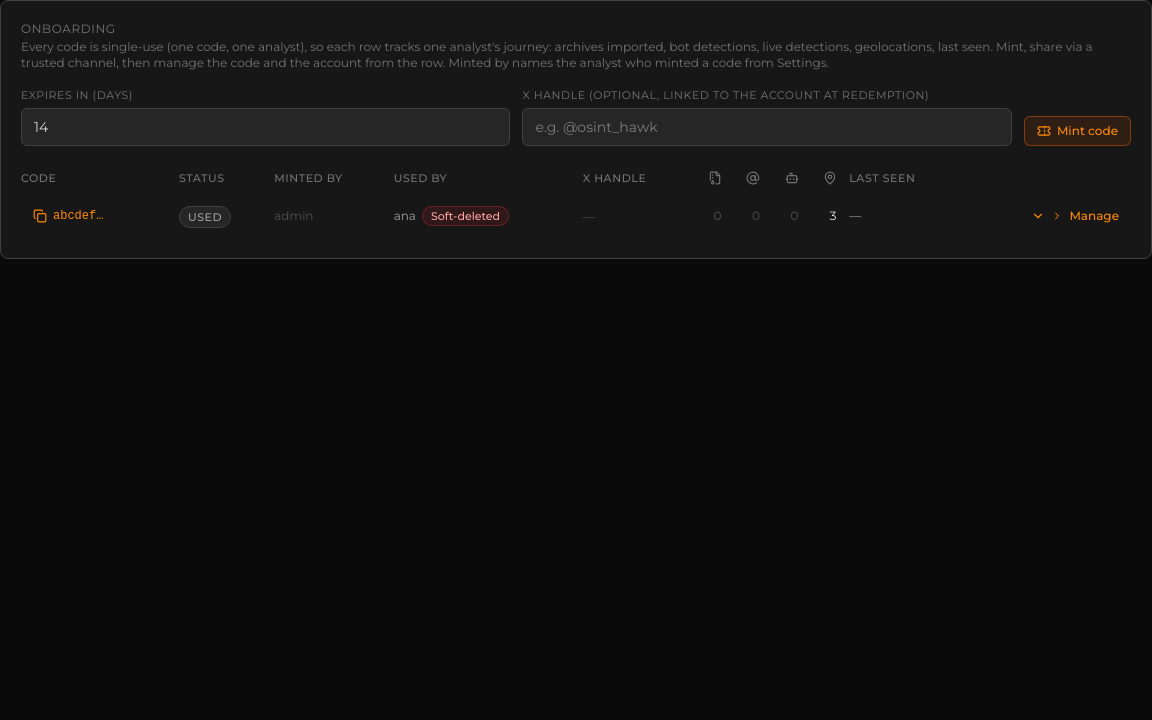
it: <OnboardingPanel> › restores a soft-deleted account from the confirm dialog
Click the button "Manage": x=1075, y=216 [1019,202,1131,230]
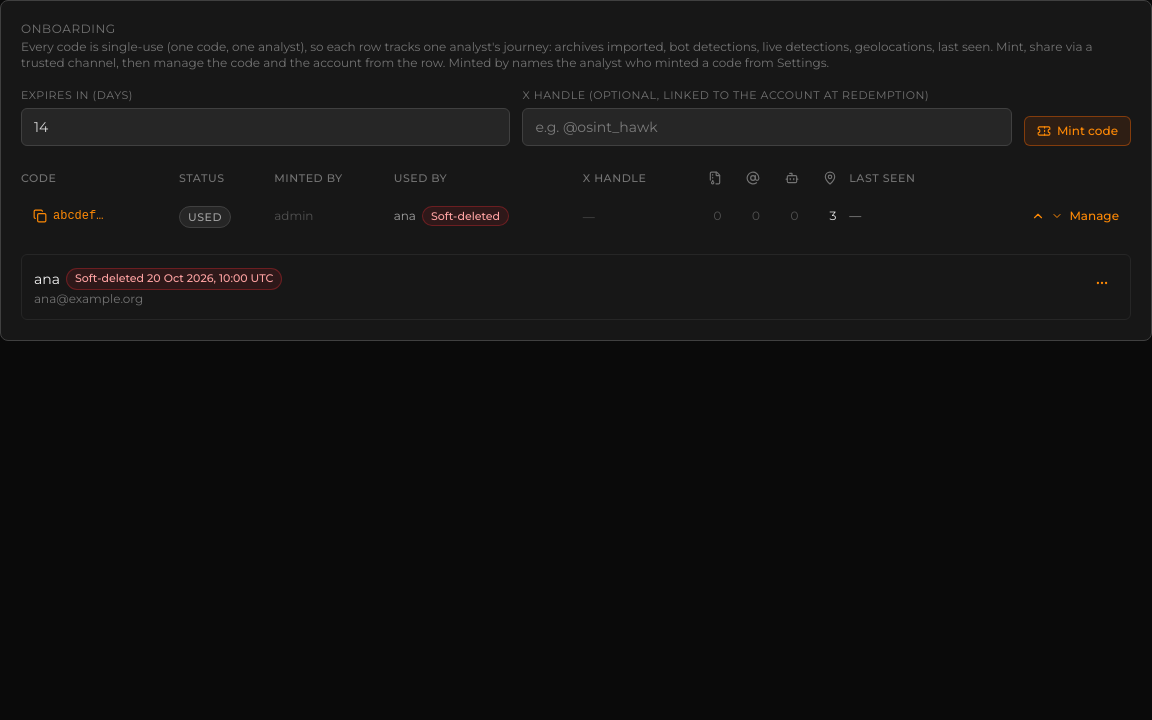
Click the button named "Actions for ana": x=1102, y=283 [1086,267,1118,299]
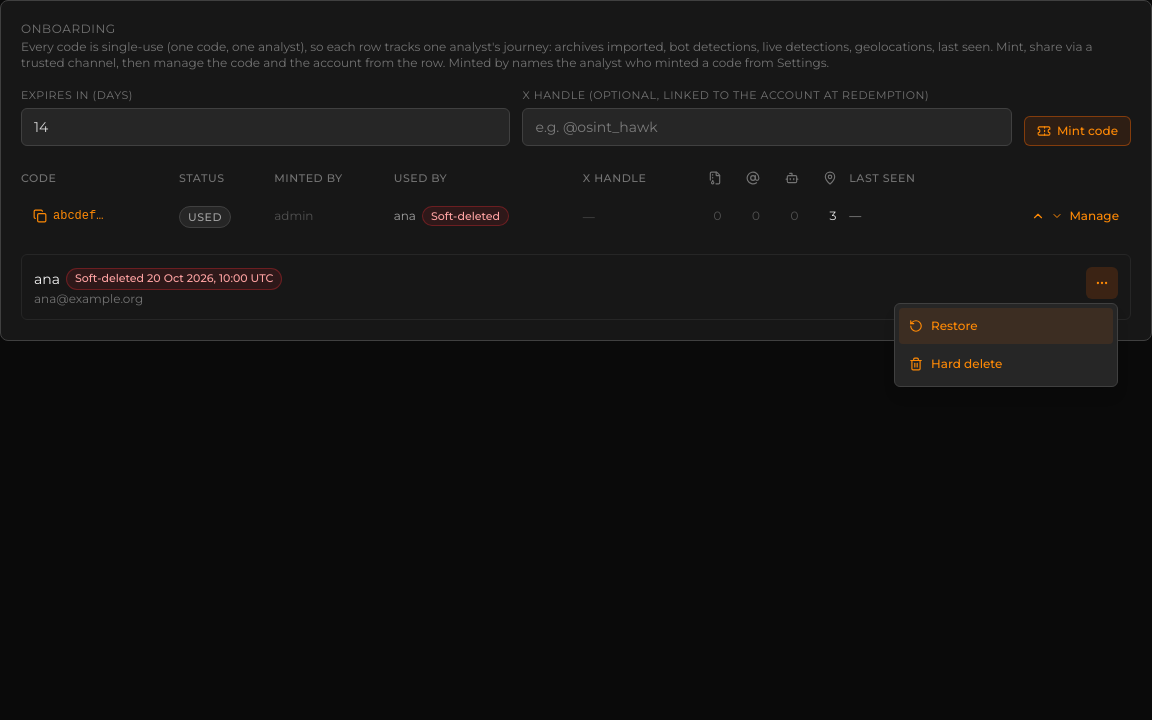
Click the menu item "Restore": x=1006, y=326 [899,308,1113,344]
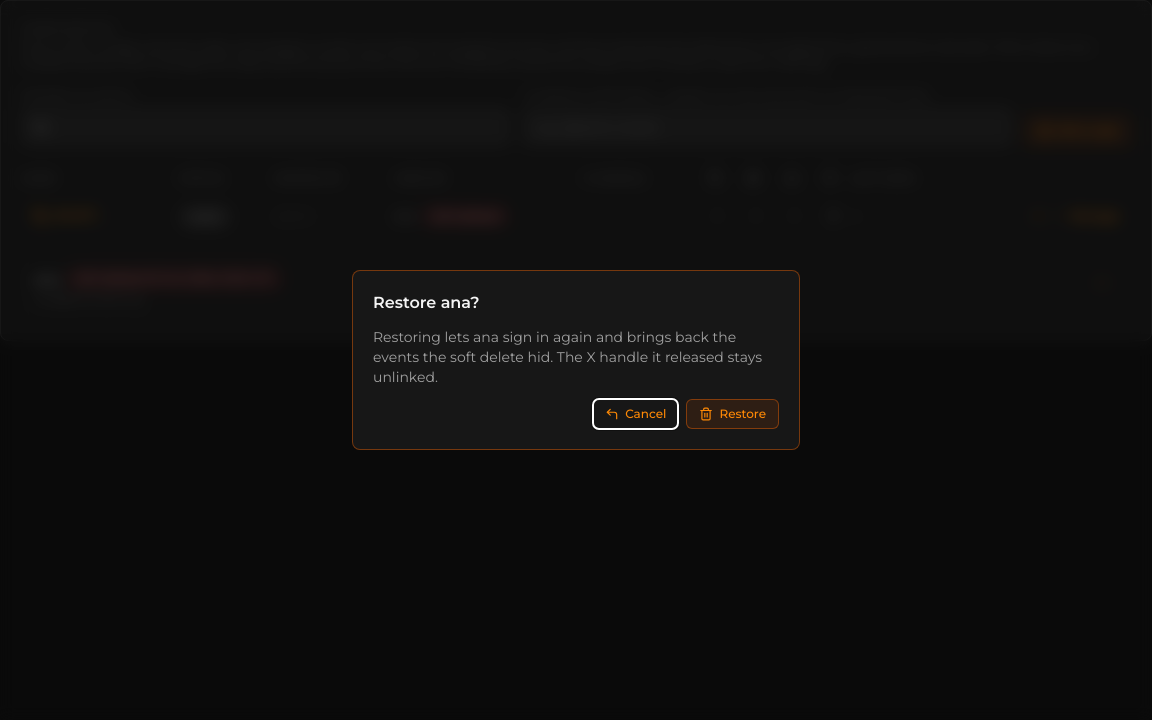
Click the button "Restore": x=733, y=414 [686,399,779,429]
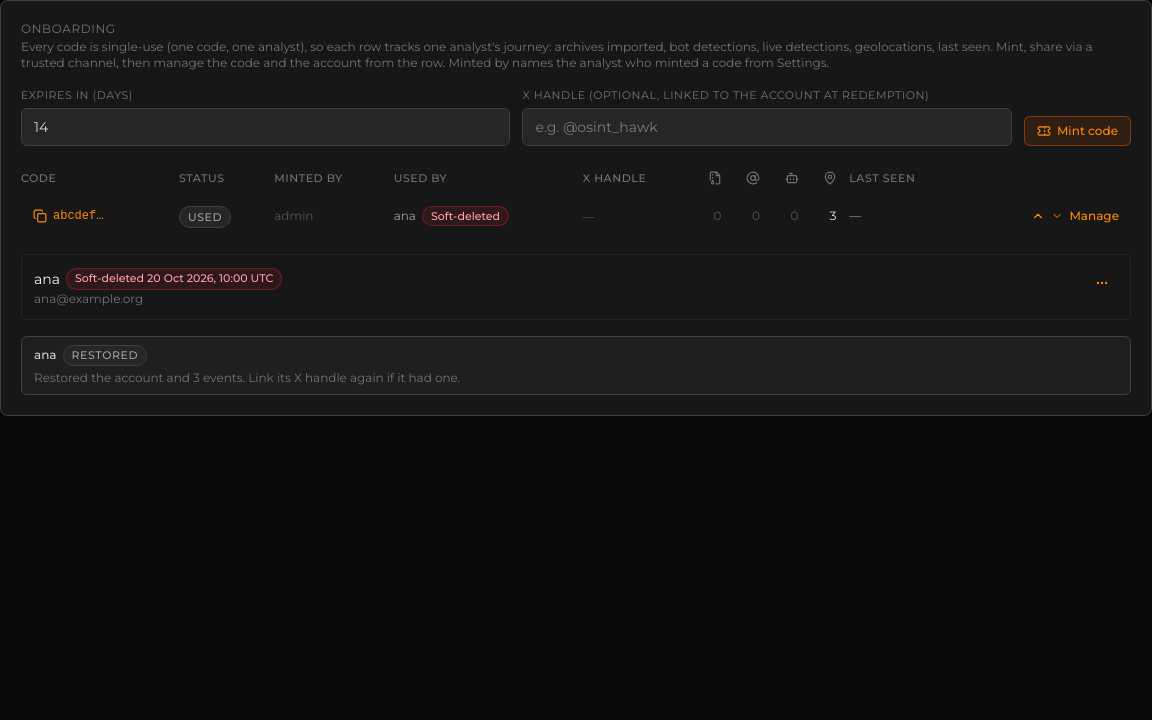
Expected: the text "Restored the account and 3 events. Link its X handle again if it had one." is shown, [34,370,460,385]
